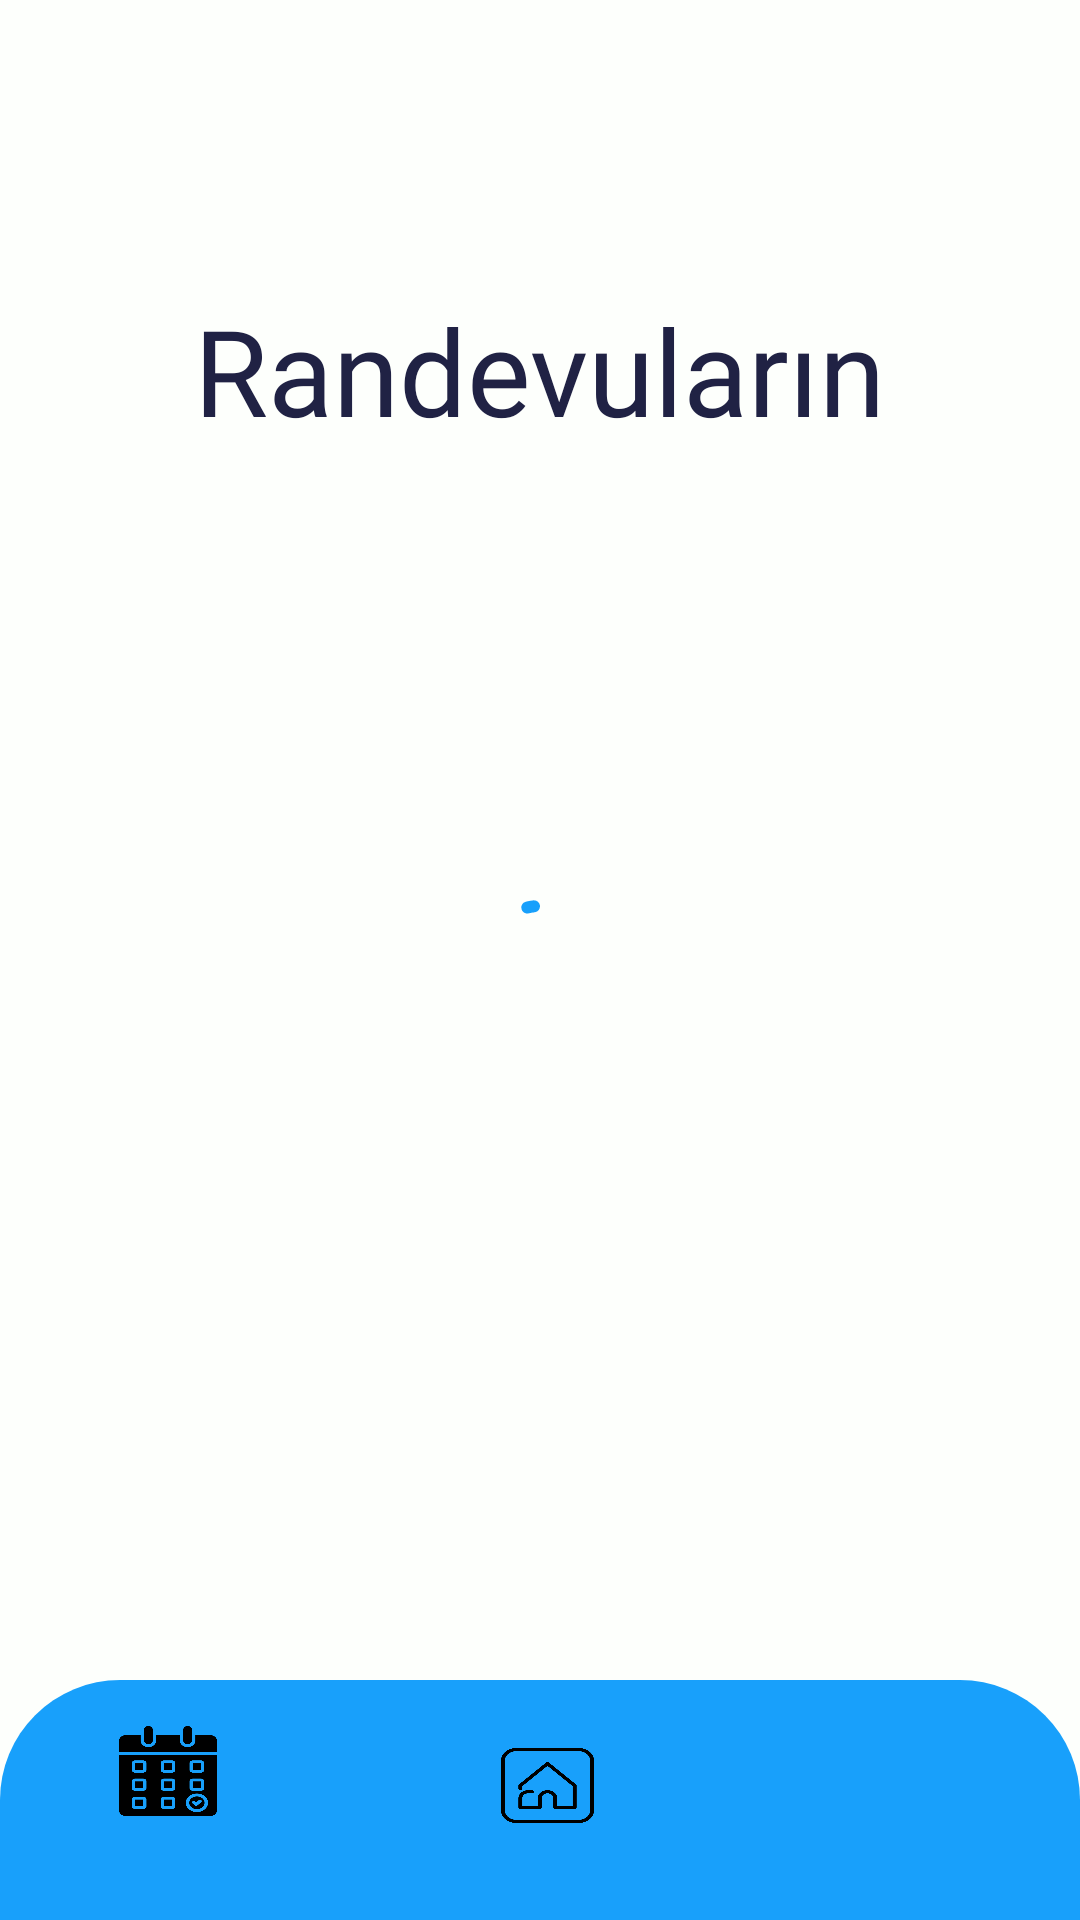

Where to tap for icons on this 1080w x 1920h app screen, as point (x, y):
appoinment: point (168, 1771)
home: point (547, 1785)
